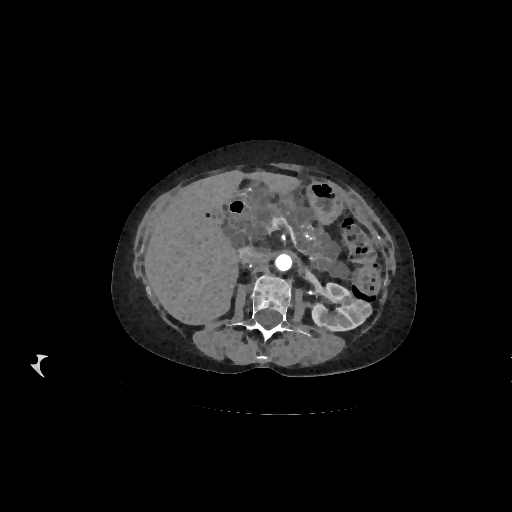Lesion: (346, 293, 374, 322)
